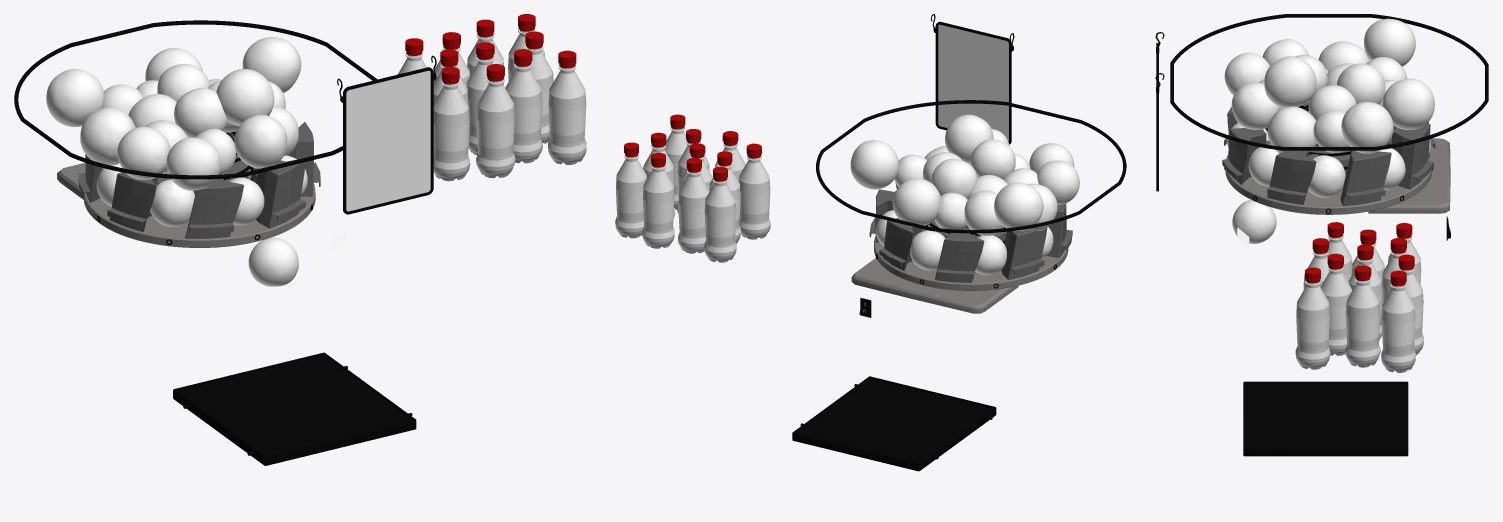
The model's file is dustbin.glb.
3 renders of one model, left to right at view 1: azimuth 30°, elevation 25°; view 2: azimuth 150°, elevation 25°; view 3: azimuth 270°, elevation 25°, orthographic. The views are drawn at different scales.
Visible parts, largest first — view 1: ChamferBox118, Rectangle088, Rectangle055, Circle011, Line265, Line267, Line264, Line266, sphere_038, Line019, Line020, sphere_036 (+26 smaller); view 2: ChamferBox118, Rectangle088, Rectangle005, Rectangle055, Line258, Line256, Circle011, Line264, Line259, Line257, sphere_034, Line016 (+22 smaller); view 3: ChamferBox118, Rectangle055, Line262, Line259, Line267, Circle011, Rectangle005, sphere_036, Line022, sphere_037, Line021, sphere_034 (+26 smaller).
Part boxes in pixels (x1,y1,x2,y2): ChamferBox118: (173, 352, 416, 465); Rectangle088: (346, 70, 430, 211); Rectangle055: (14, 20, 377, 179); Circle011: (83, 169, 315, 247); Line265: (476, 64, 515, 178); Line267: (548, 50, 586, 164); Line264: (433, 66, 470, 181); Line266: (505, 49, 542, 163); sphere_038: (46, 69, 104, 127); Line019: (185, 174, 243, 238); Line020: (252, 160, 305, 228); sphere_036: (216, 69, 274, 126); ChamferBox118: (792, 376, 996, 471); Rectangle088: (938, 24, 1008, 141); Rectangle005: (851, 258, 1018, 313); Rectangle055: (816, 100, 1126, 233); Line258: (642, 152, 674, 248); Line256: (704, 167, 736, 262); Circle011: (874, 224, 1068, 290); Line264: (738, 143, 770, 239); Line259: (615, 142, 646, 238); Line257: (678, 158, 709, 253); sphere_034: (850, 140, 898, 189); Line016: (935, 228, 984, 282); ChamferBox118: (1243, 381, 1408, 456); Rectangle055: (1170, 14, 1488, 150); Line262: (1345, 265, 1380, 367); Line259: (1381, 270, 1415, 372); Line267: (1295, 267, 1330, 369); Circle011: (1225, 155, 1432, 214); Rectangle005: (1368, 138, 1450, 213); sphere_036: (1264, 56, 1316, 107); Line022: (1340, 150, 1391, 206); sphere_037: (1382, 78, 1434, 129); Line021: (1267, 150, 1318, 204); sphere_034: (1341, 102, 1393, 153).
Size of the model in its own units: 1043 by 944 by 626.
